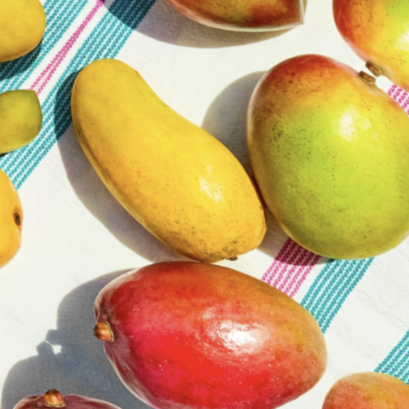mango: (7, 27, 322, 312), (25, 170, 363, 409), (156, 0, 409, 310)
